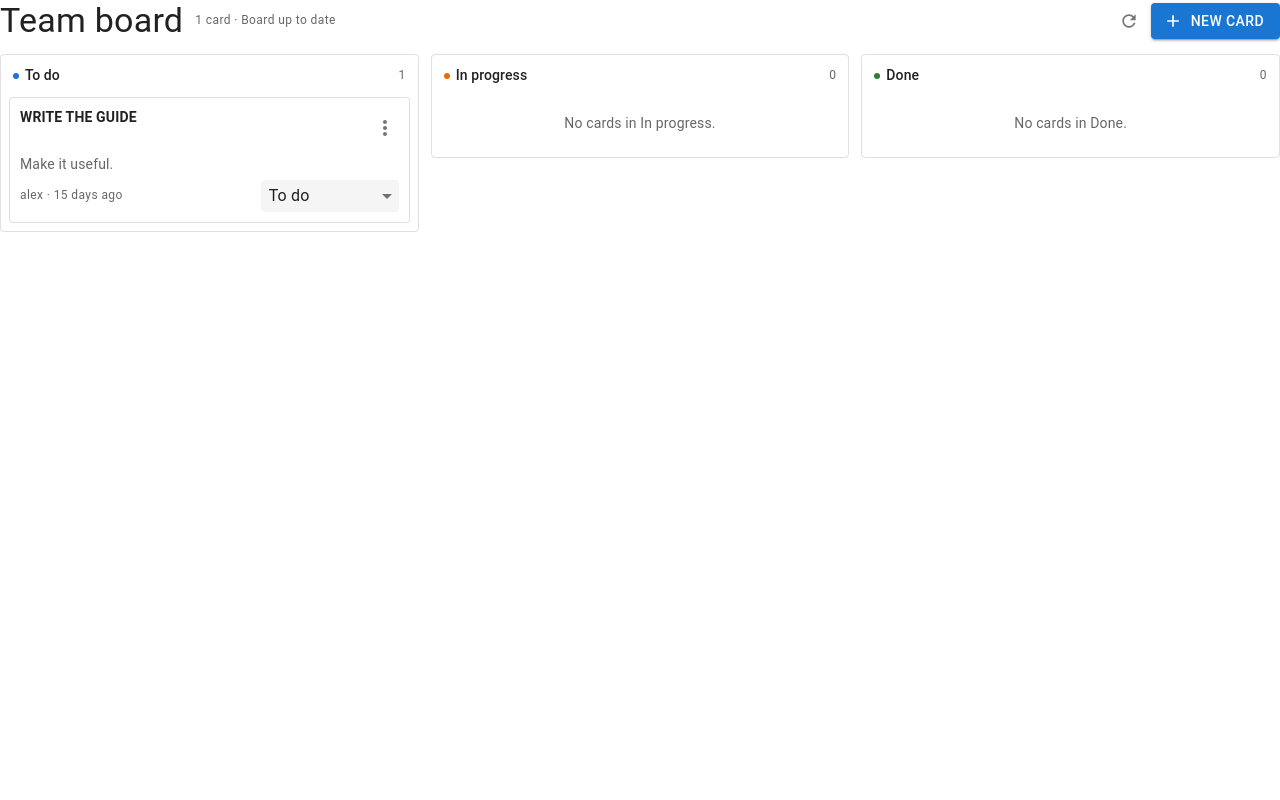
Test: shared kanban board › requires confirmation for deletion, supports cancel, and uses the confirmed version
Expected: the element that starts with "Write the guide" is shown, x1=9 y1=97 x2=410 y2=223
Click the button named "Actions for Write the guide".
click(385, 128)  # box x1=365 y1=108 x2=405 y2=148
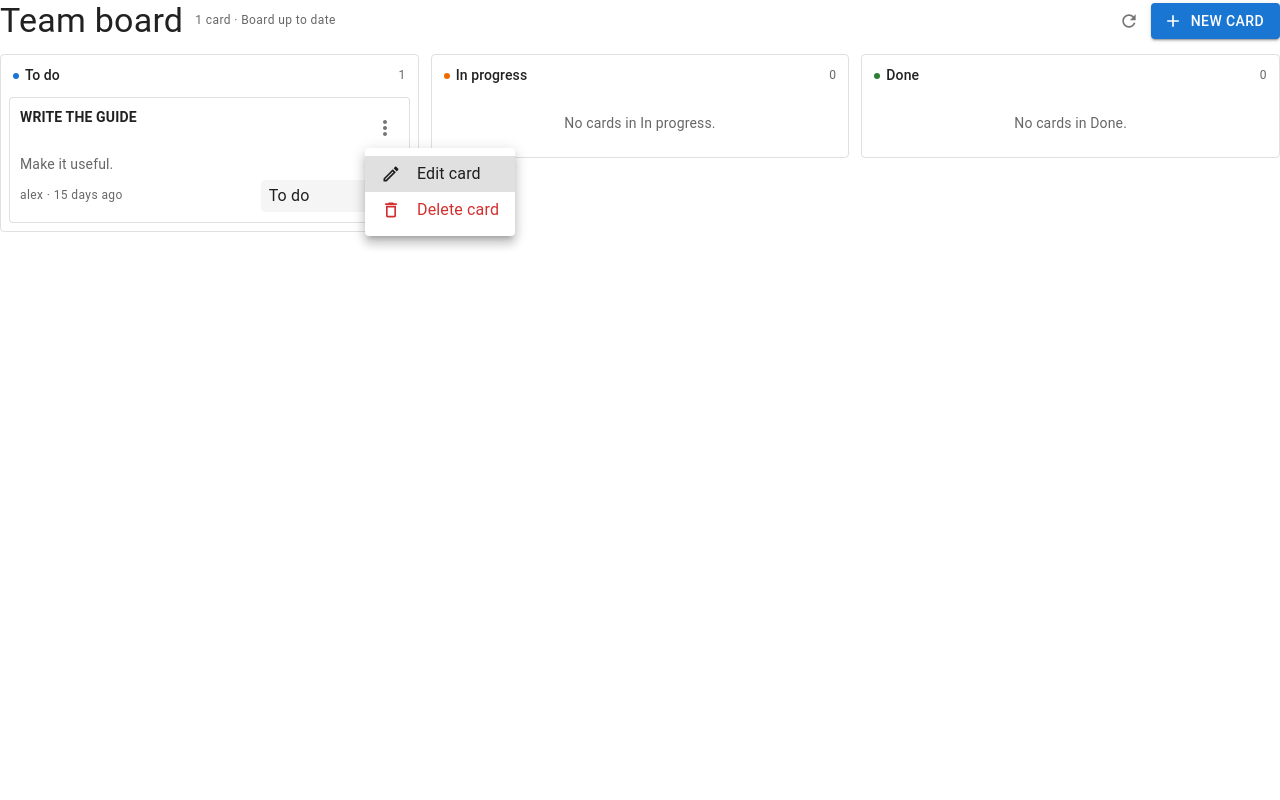
Click the menu item "Delete card".
click(440, 210)  # box x1=381 y1=200 x2=499 y2=220
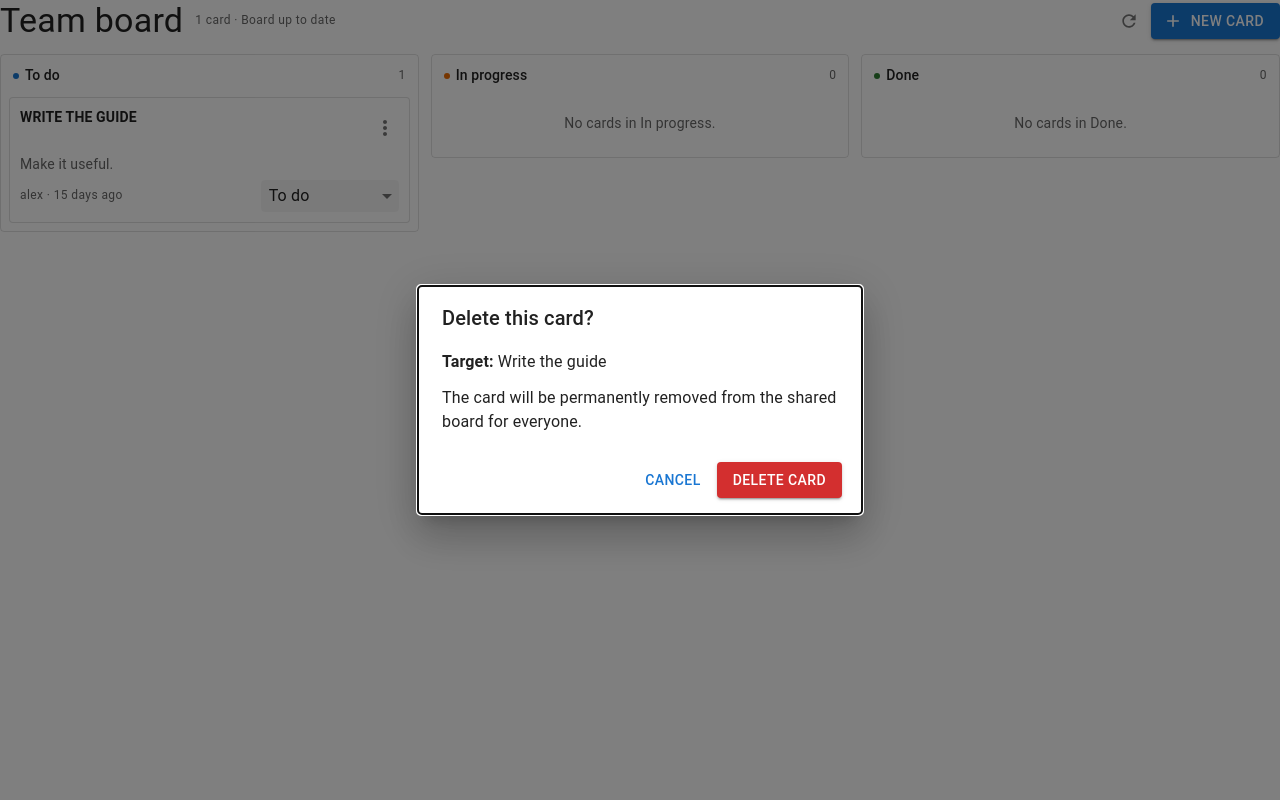
Result: the dialog shows "Write the guide" at x1=498 y1=352 x2=607 y2=371
Click the button "Cancel".
click(673, 480)  # box x1=637 y1=462 x2=709 y2=498
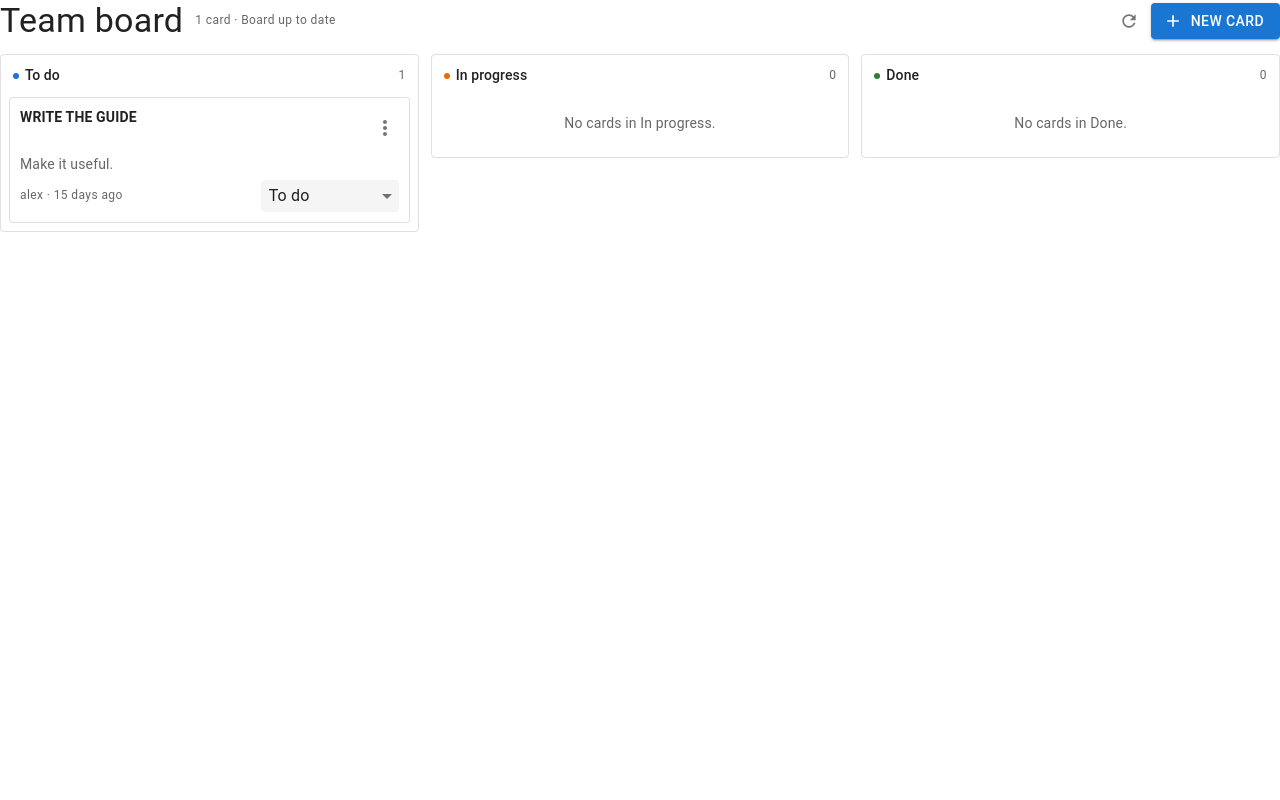
Result: the dialog is gone
Click the button named "Actions for Write the guide".
click(385, 128)  # box x1=365 y1=108 x2=405 y2=148
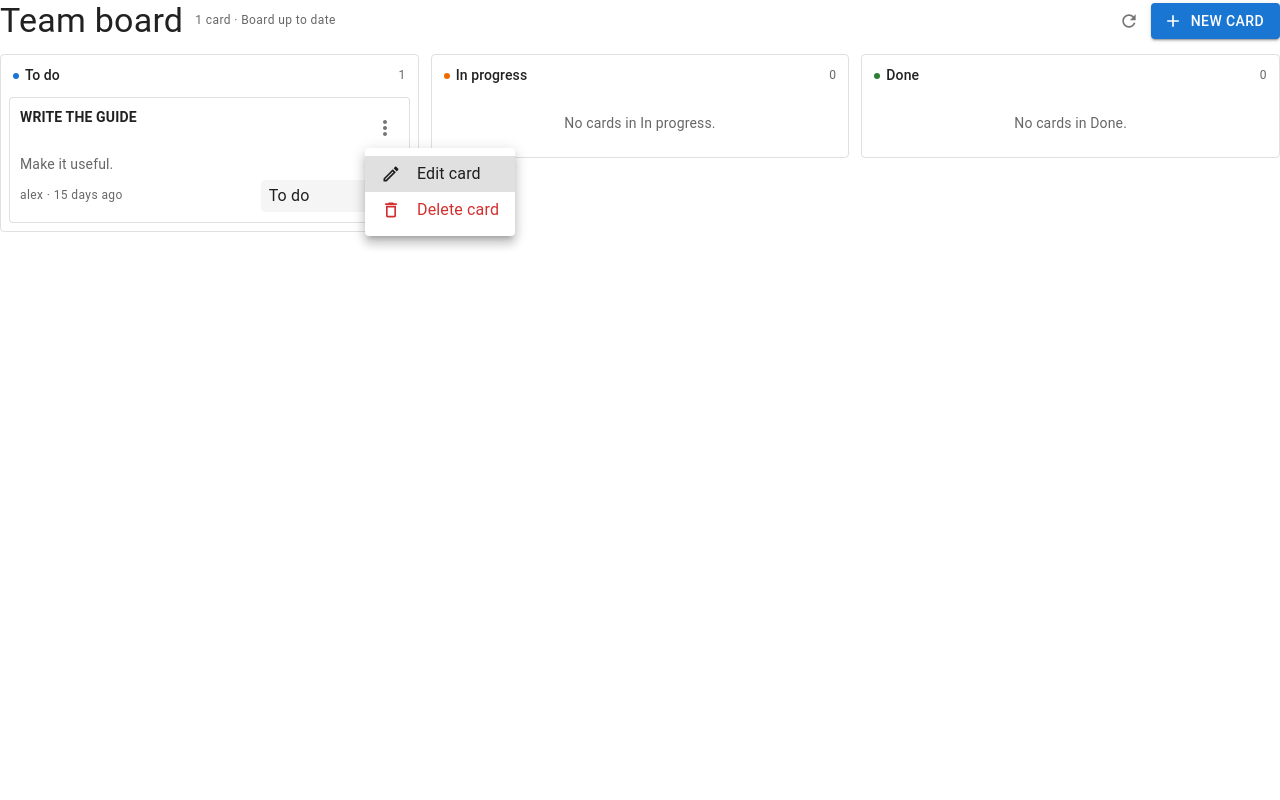
Click the menu item "Delete card".
click(440, 210)  # box x1=381 y1=200 x2=499 y2=220
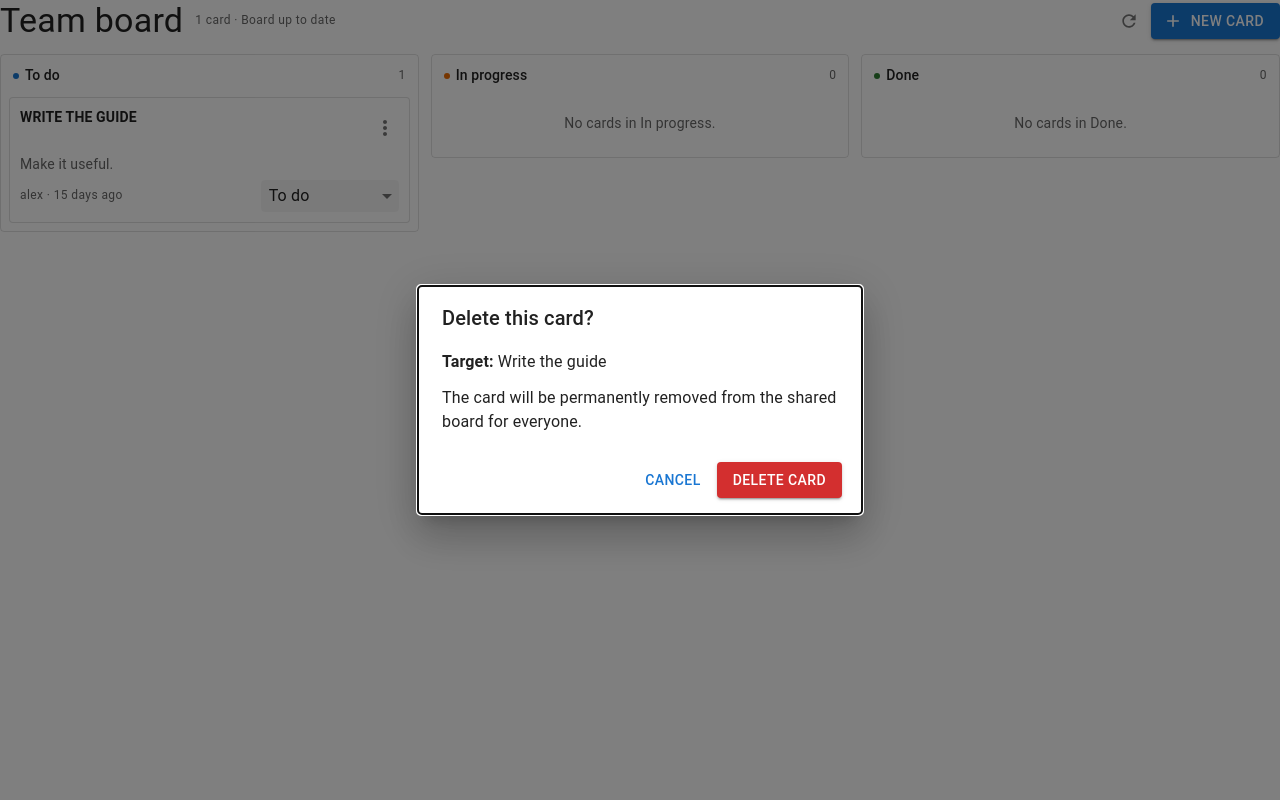
Click the button "Delete card".
click(779, 480)  # box x1=717 y1=462 x2=842 y2=498
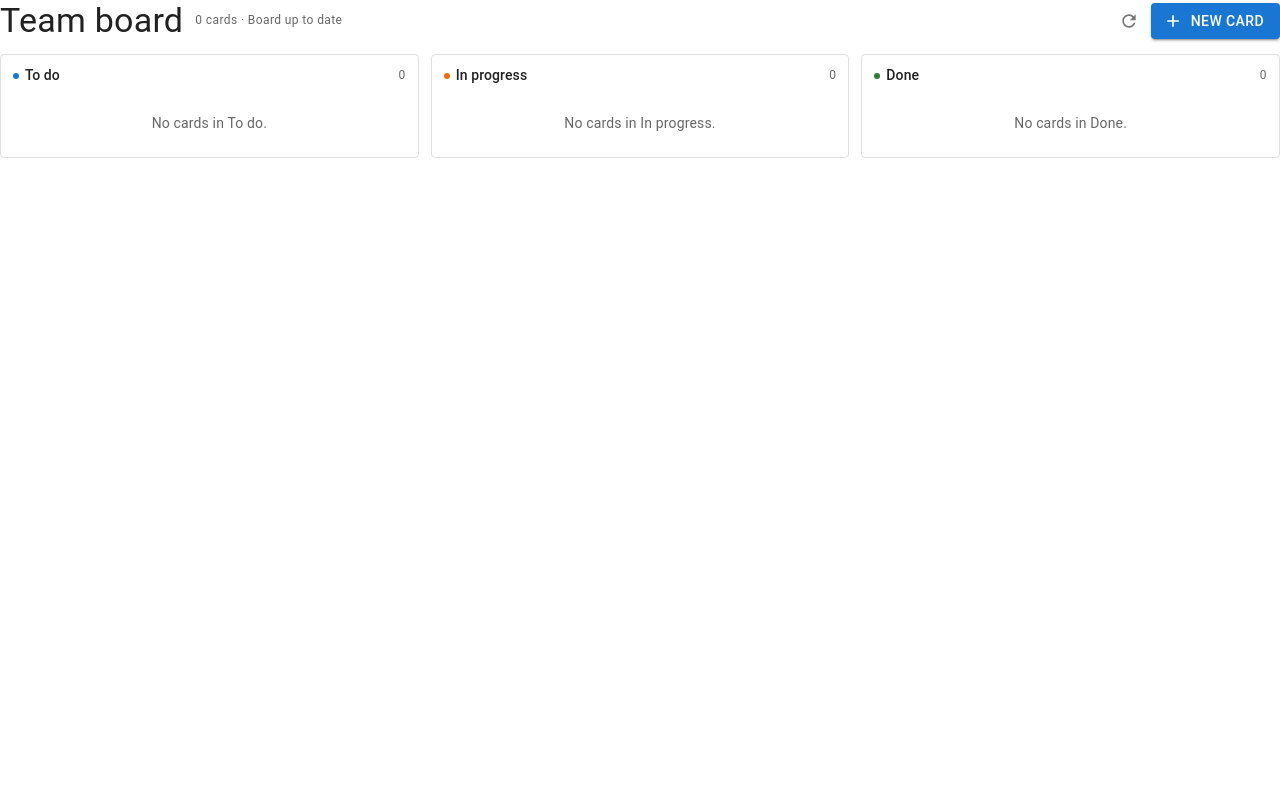
Expected: the button "New card" is shown, x1=1151 y1=3 x2=1279 y2=39
Result: the text "No cards in To do." is shown at x1=152 y1=115 x2=267 y2=131
